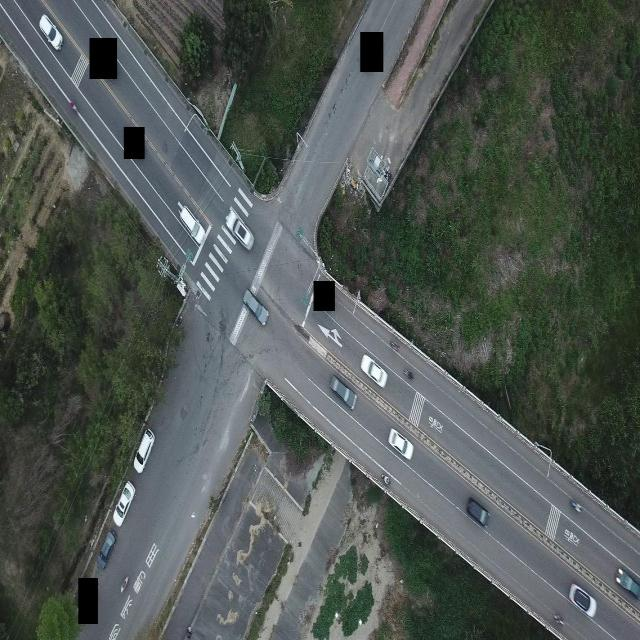bike: (570, 498, 581, 512)
car: (225, 206, 254, 251), (177, 200, 204, 246), (133, 427, 155, 474), (113, 480, 135, 527), (568, 583, 597, 618), (329, 374, 357, 410), (360, 353, 388, 388), (243, 289, 269, 326), (39, 13, 63, 51), (388, 427, 414, 460), (614, 567, 640, 599), (97, 528, 116, 570), (466, 497, 489, 527)
